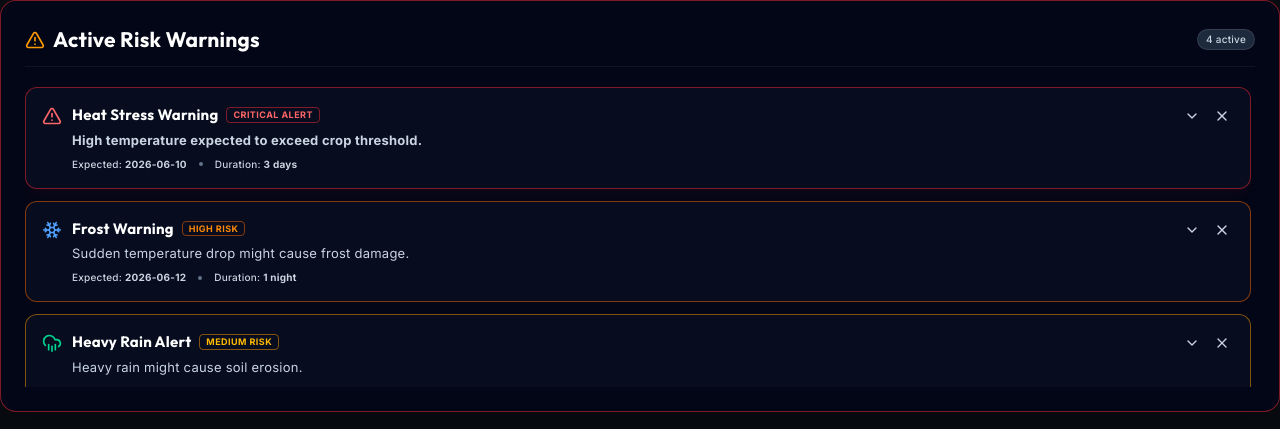
RiskAlertCard Component Tests › should expand and collapse recommended actions when toggle is clicked
The width and height of the screenshot is (1280, 429).
Expected: the heading "Heat Stress Warning" is shown, top-left (72, 104), bottom-right (218, 126)
Expected: the text "Increase irrigation frequency and apply mulch to retain moisture." is not shown
// Expand the recommendation
Click the button titled "View action steps" in the row of "Critical Alert" at x=1192, y=116, box top-left (1180, 104), bottom-right (1204, 128)
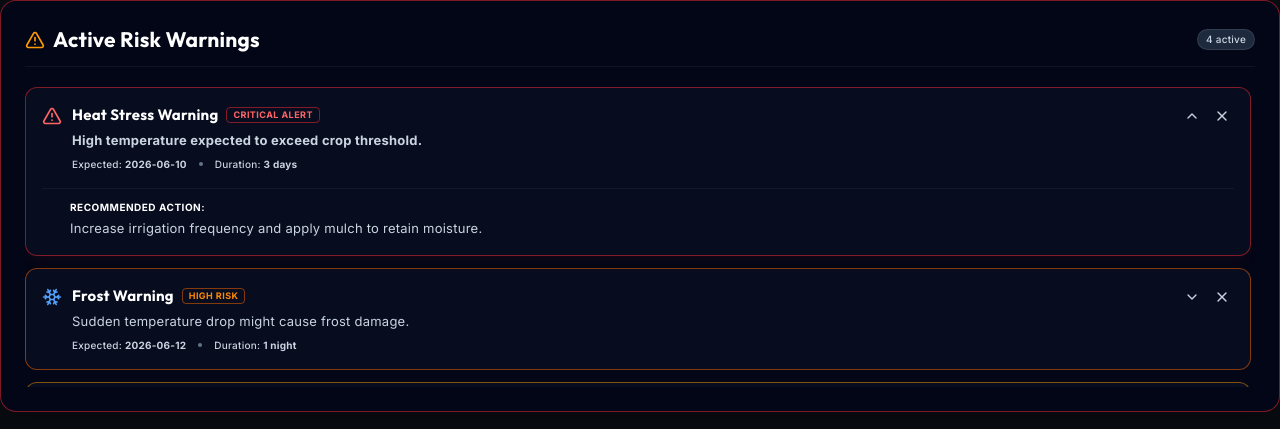
Now the text "Increase irrigation frequency and apply mulch to retain moisture." is shown, box top-left (70, 220), bottom-right (482, 236)
// Collapse the recommendation
Click the button titled "Hide action steps" at x=1192, y=116, box top-left (1180, 104), bottom-right (1204, 128)
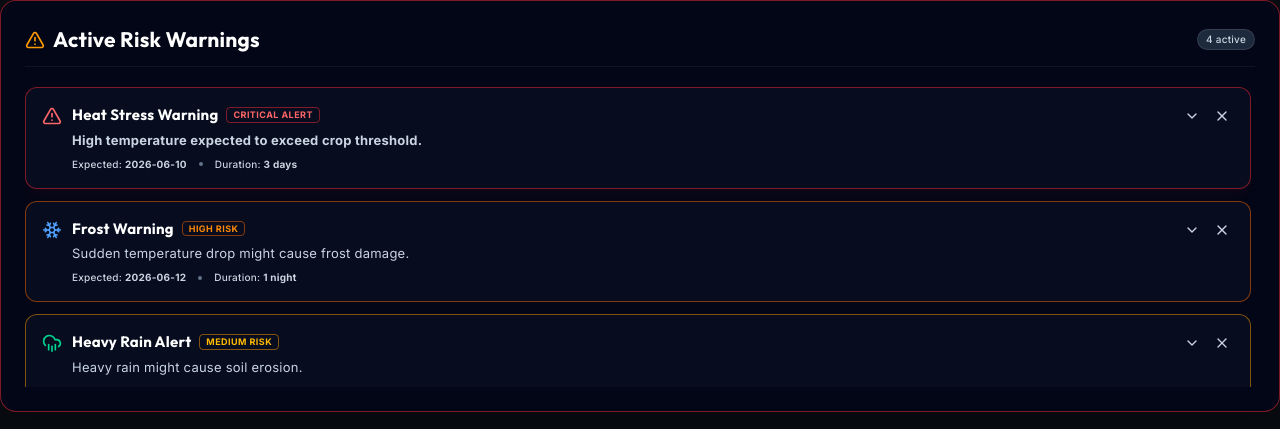
Now the text "Increase irrigation frequency and apply mulch to retain moisture." is gone
